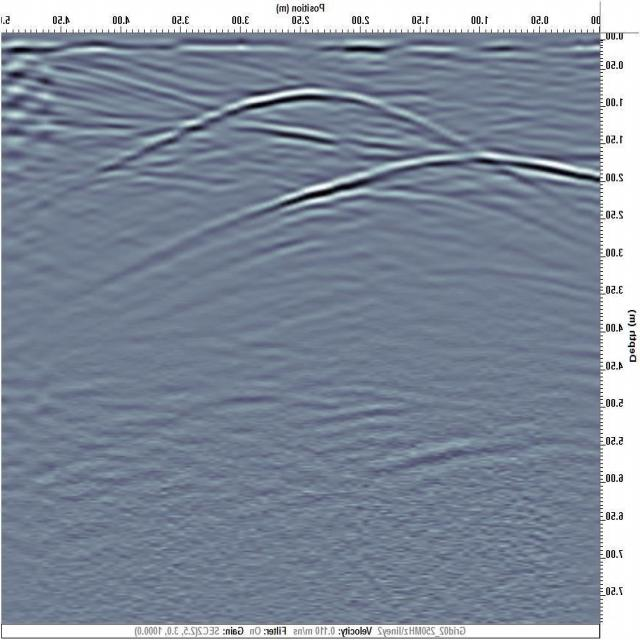hyperbola: (275, 145, 596, 222), (187, 76, 441, 142)
